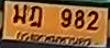letters: (28, 4, 43, 29), (12, 3, 27, 25), (60, 7, 73, 30), (86, 10, 100, 31), (74, 9, 85, 30)
province: (16, 31, 92, 47)
